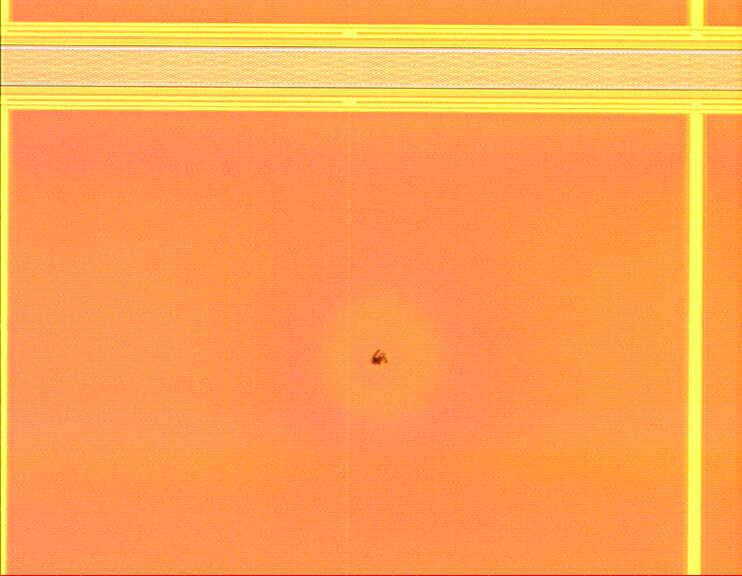PIQ PARTICLE: (371, 349, 391, 369)
